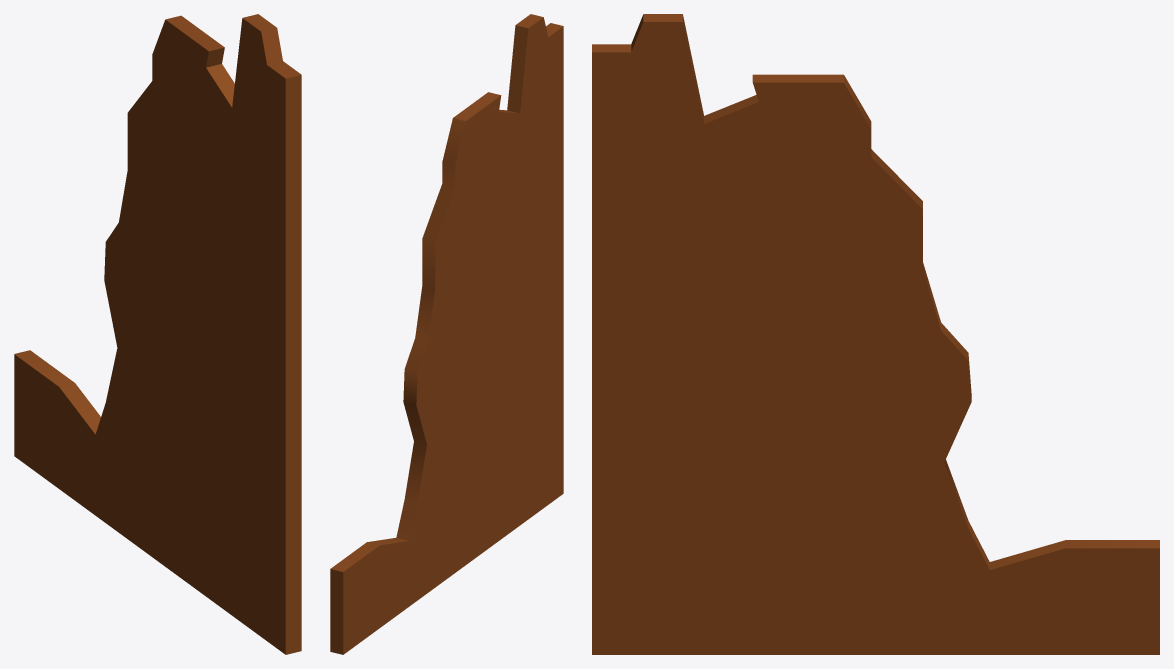
The model's file is broken_floor_wood.fbx.
3 renders of one model, left to right at view 1: azimuth 30°, elevation 25°; view 2: azimuth 150°, elevation 25°; view 3: azimuth 270°, elevation 25°, orthographic. The views are drawn at different scales.
Parts seen in each view (by area): view 1: broken floor _wood; view 2: broken floor _wood; view 3: broken floor _wood.
Part boxes in pixels (<box>): broken floor _wood: <box>14,14,301,654</box>; broken floor _wood: <box>330,14,563,654</box>; broken floor _wood: <box>592,14,1159,654</box>.
Size of the model in its own units: 20 by 723 by 588.
